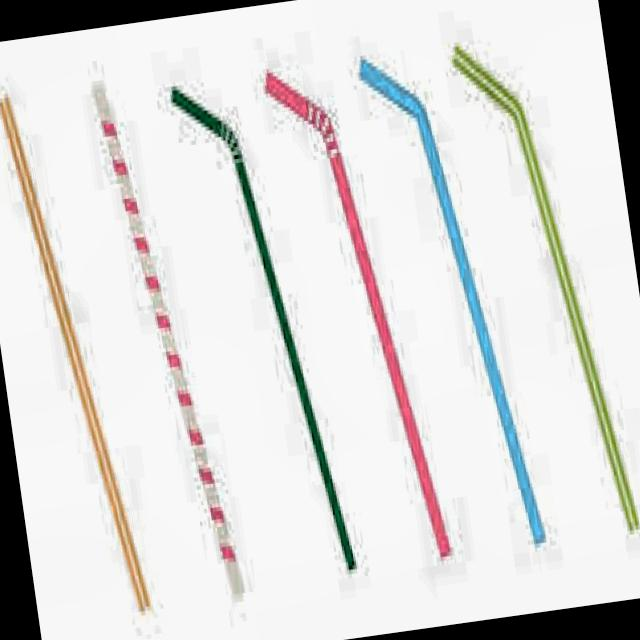plastic straw: (453, 48, 638, 530), (266, 72, 449, 557), (173, 88, 356, 570), (363, 62, 545, 543), (1, 97, 150, 611), (95, 87, 244, 596)
